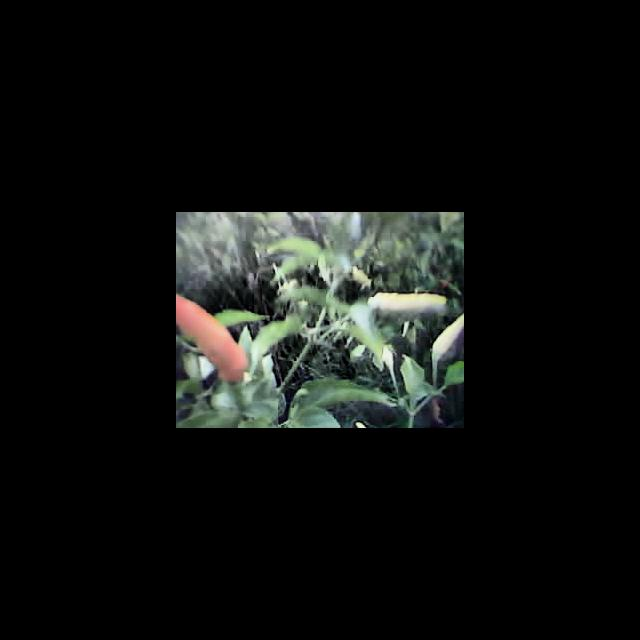Cabai: (176, 285, 247, 384)
